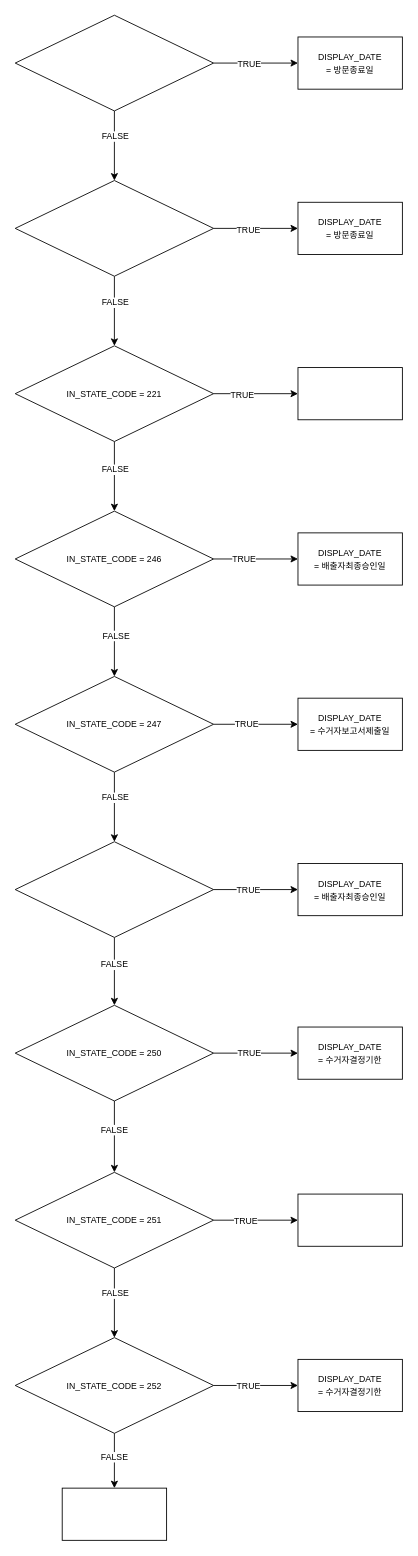
Image size: 418x1556. Some labels were removed from this diagram. The shapes that lost their labels are listed below. From the top down, each one's box as (x1, y1, x2, y2) in pixels, then its label:
(14, 14, 214, 111): IN_STATE_CODE = 201
(14, 180, 214, 276): IN_STATE_CODE = 217
(297, 367, 402, 420): DISPLAY_DATE = 수거요청일
(14, 841, 214, 937): IN_STATE_CODE = 248
(297, 1193, 402, 1246): DISPLAY_DATE = 수거자의사결정일
(61, 1487, 167, 1540): DISPLAY_DATE = 레코드 최종수정일
